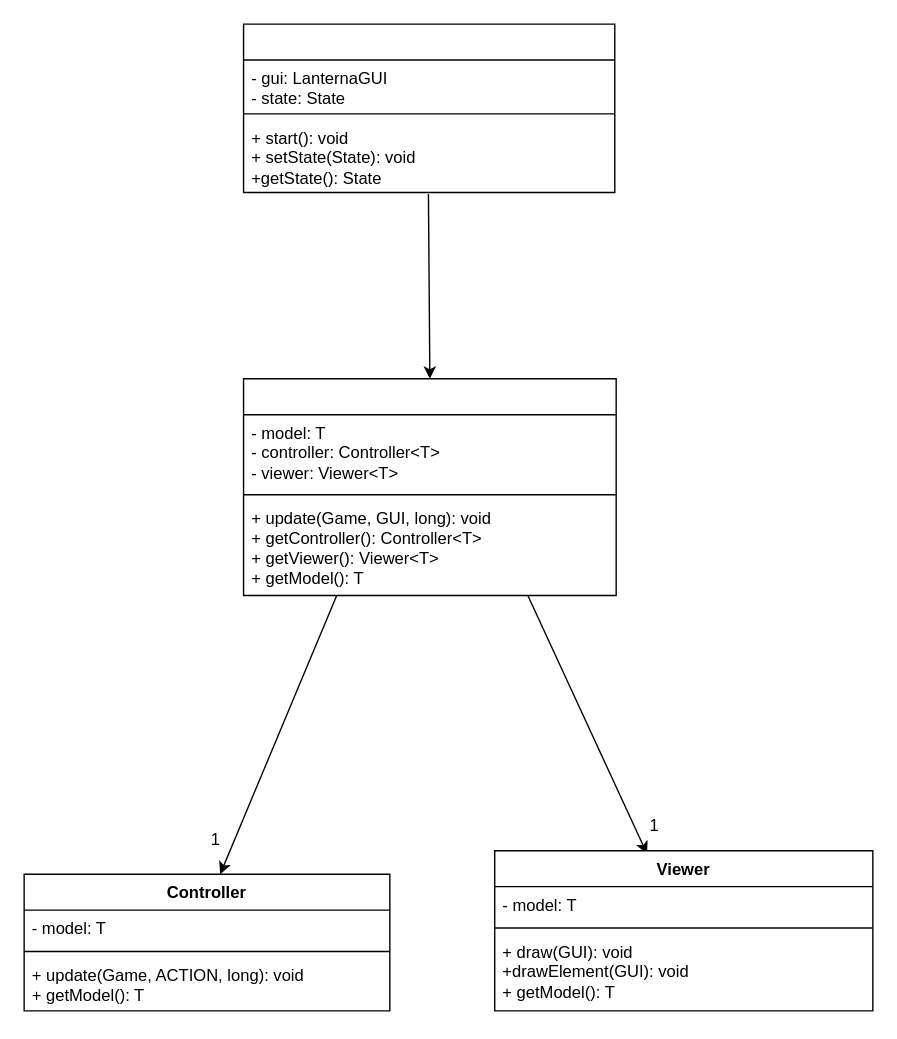
Image size: 897x1039. Some labels were removed from this diagram. The box of each missing label's shape, as (x1, y1, x2, y2) in pixels:
Game: (242, 23, 615, 193)
State: (242, 377, 616, 595)
